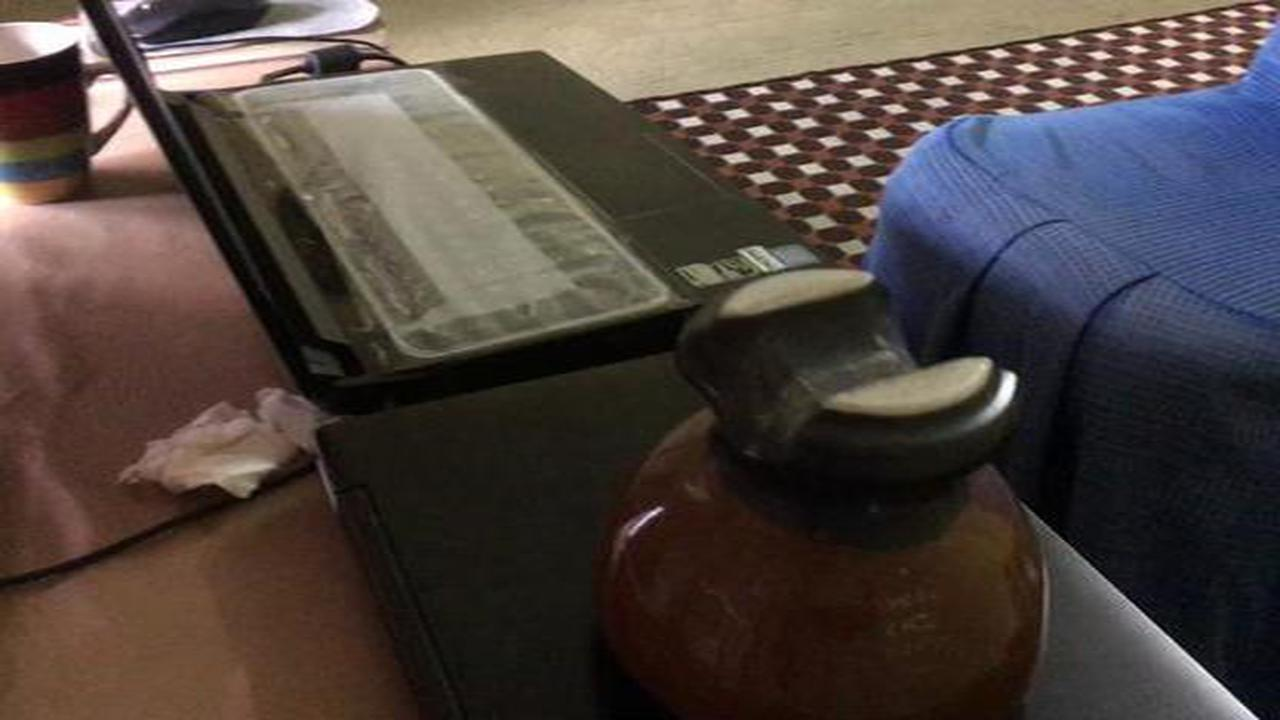insulator_pin: (582, 258, 1068, 720)
